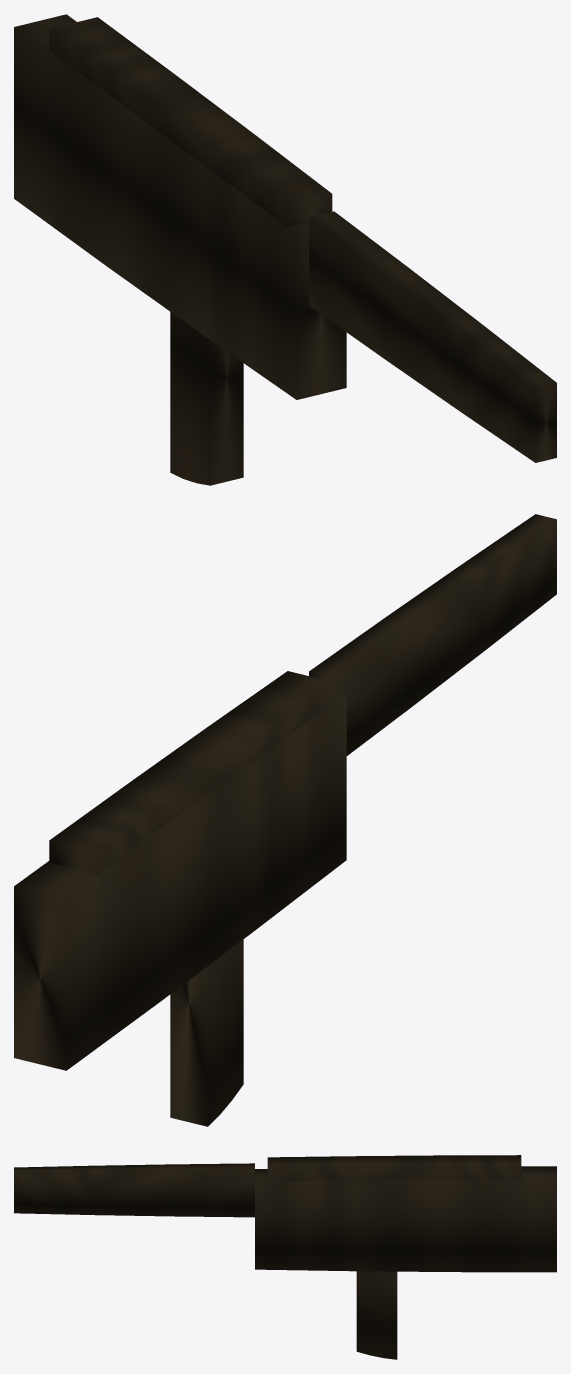
Rendered from wpn_ak47_m.glb.
3 views of the same model, one above another, from view 1: azimuth 30°, elevation 25°; view 2: azimuth 150°, elevation 25°; view 3: azimuth 270°, elevation 25° (orthographic). The views are drawn at different scales.
Visible parts, largest first — view 1: SubMesh_0_Receiver, SubMesh_3_BarrelSight, SubMesh_1_Action, SubMesh_2_Magazine; view 2: SubMesh_0_Receiver, SubMesh_3_BarrelSight, SubMesh_1_Action, SubMesh_2_Magazine; view 3: SubMesh_0_Receiver, SubMesh_3_BarrelSight, SubMesh_1_Action, SubMesh_2_Magazine.
Part boxes in pixels (x1,y1,x2,y2): SubMesh_0_Receiver: (14, 14, 346, 399); SubMesh_3_BarrelSight: (309, 211, 556, 462); SubMesh_1_Action: (49, 17, 332, 227); SubMesh_2_Magazine: (170, 312, 243, 485); SubMesh_0_Receiver: (14, 693, 346, 1070); SubMesh_3_BarrelSight: (309, 514, 556, 755); SubMesh_1_Action: (49, 671, 332, 874); SubMesh_2_Magazine: (170, 939, 243, 1126); SubMesh_0_Receiver: (255, 1166, 556, 1272); SubMesh_3_BarrelSight: (14, 1163, 254, 1217); SubMesh_1_Action: (267, 1155, 521, 1181); SubMesh_2_Magazine: (356, 1271, 397, 1359).
Size of the model in its own units: 0.056 by 0.3675 by 0.935.
1 material, 1 textured.
